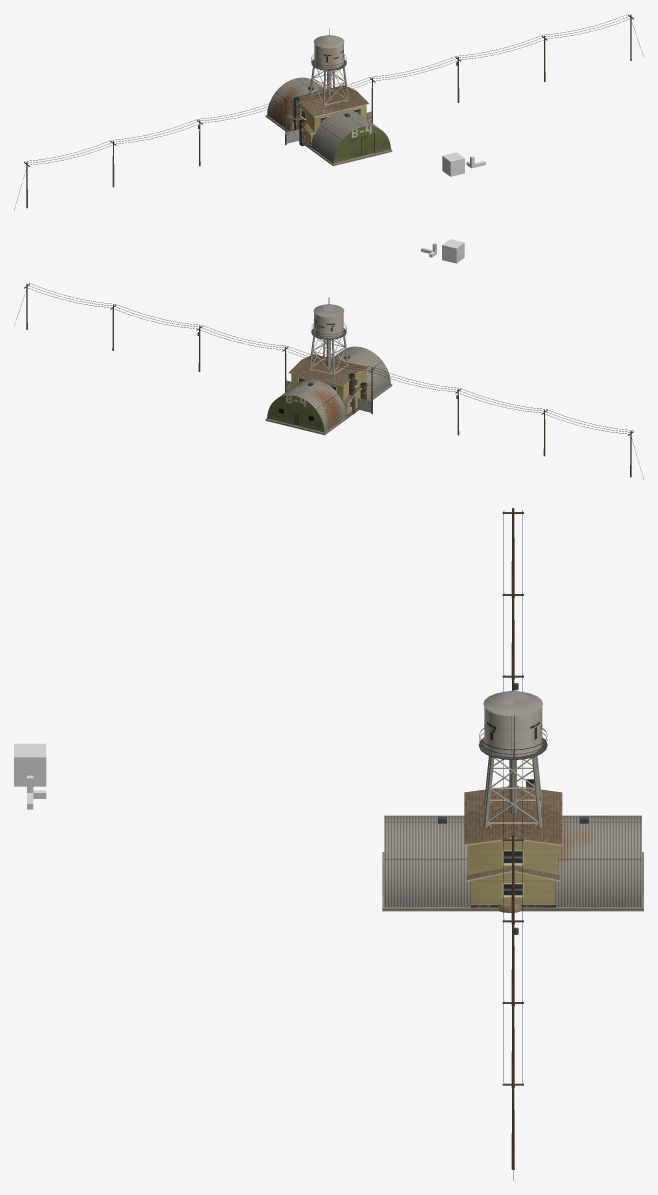
The model's file is X_Mid.fbx.
3 views of the same model, one above another, from view 1: azimuth 30°, elevation 25°; view 2: azimuth 150°, elevation 25°; view 3: azimuth 270°, elevation 25° (orthographic). The views are drawn at different scales.
Visible parts, largest first — view 1: X_Quonset, X_PoleLine, X_TownHouse_B_Butter, X_WaterTower, X_TownHouse_A_Butter, K_ScaleCube; view 2: X_Quonset, X_PoleLine, X_TownHouse_B_Butter, X_WaterTower, K_ScaleCube, X_TownHouse_A_Butter; view 3: X_Quonset, X_TownHouse_B_Butter, X_WaterTower, X_PoleLine, X_TownHouse_A_Butter, K_ScaleCube.
Boxes of the visible parts, <box> form: X_Quonset: <box>265,77,392,166</box>; X_PoleLine: <box>14,14,643,210</box>; X_TownHouse_B_Butter: <box>289,85,369,134</box>; X_WaterTower: <box>309,28,349,107</box>; X_TownHouse_A_Butter: <box>286,113,371,147</box>; K_ScaleCube: <box>442,152,464,176</box>; X_Quonset: <box>265,346,392,435</box>; X_PoleLine: <box>14,283,643,479</box>; X_TownHouse_B_Butter: <box>288,354,369,414</box>; X_WaterTower: <box>308,297,348,376</box>; K_ScaleCube: <box>442,239,464,263</box>; X_TownHouse_A_Butter: <box>286,382,371,416</box>; X_Quonset: <box>382,815,643,911</box>; X_TownHouse_B_Butter: <box>464,779,562,875</box>; X_WaterTower: <box>478,677,547,827</box>; X_PoleLine: <box>502,508,523,1180</box>; X_TownHouse_A_Butter: <box>466,866,559,907</box>; K_ScaleCube: <box>14,743,46,786</box>.
Bounding box in the file's own units: 43818 × 7060 × 19560.
Materials: 4 (3 with a texture image).
